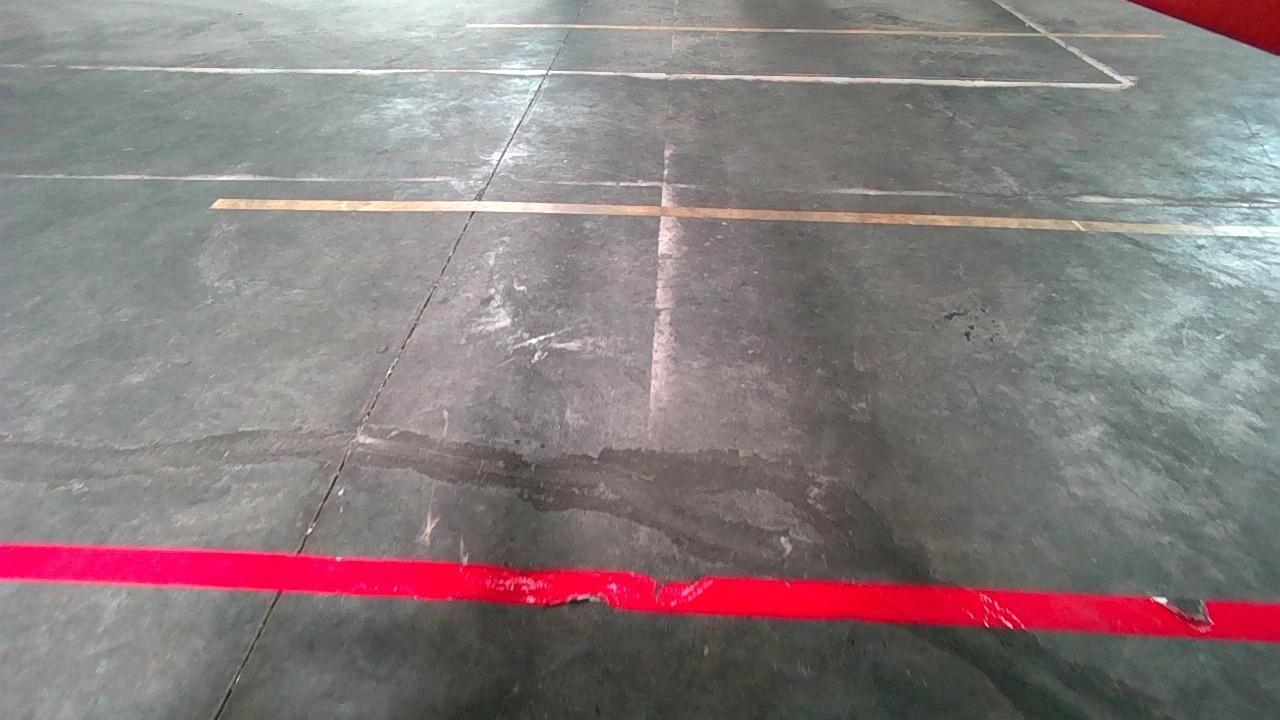red_line: (0, 539, 1280, 641)
yellow_line: (205, 195, 1280, 237)
